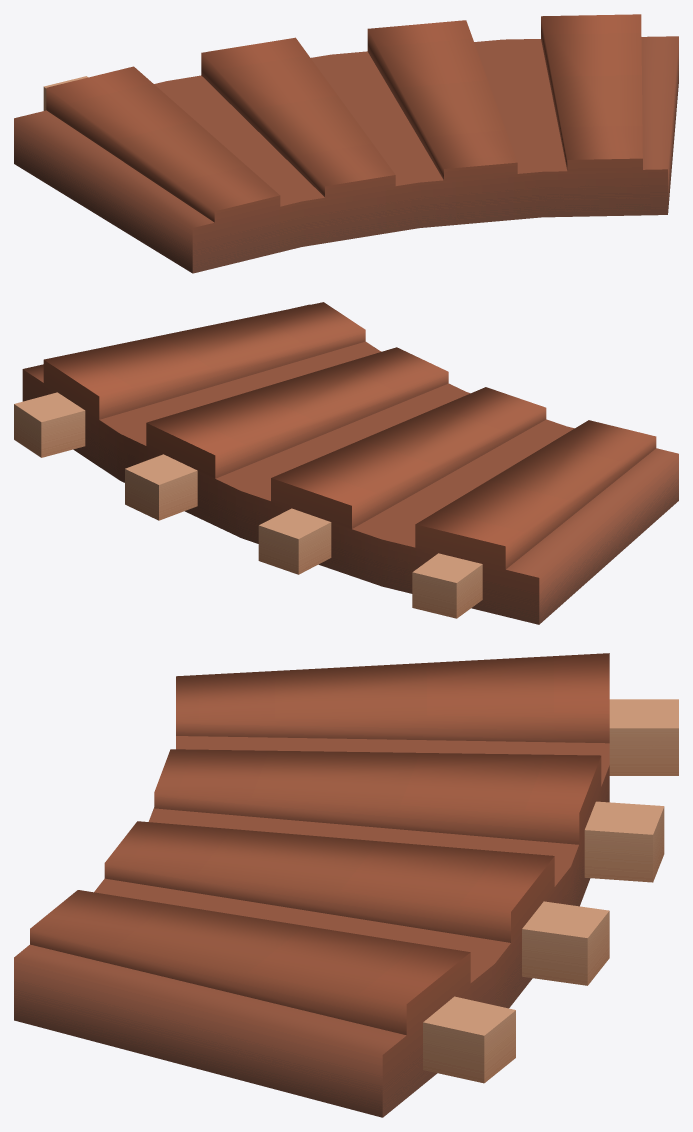
Rendered from meat-ribs.glb.
The picture shows the model from 3 angles, top to bottom: view 1: azimuth 30°, elevation 25°; view 2: azimuth 150°, elevation 25°; view 3: azimuth 270°, elevation 25°; orthographic projection. The views are drawn at different scales.
Parts seen in each view (by area): view 1: meat-ribs; view 2: meat-ribs; view 3: meat-ribs.
Part boxes in pixels (x1,y1,x2,y2): meat-ribs: [14, 14, 678, 273]; meat-ribs: [14, 302, 678, 624]; meat-ribs: [14, 653, 678, 1117].
Size of the model in its own units: 0.5354 by 0.0599 by 0.3834.
Materials: 1 (1 with a texture image).
